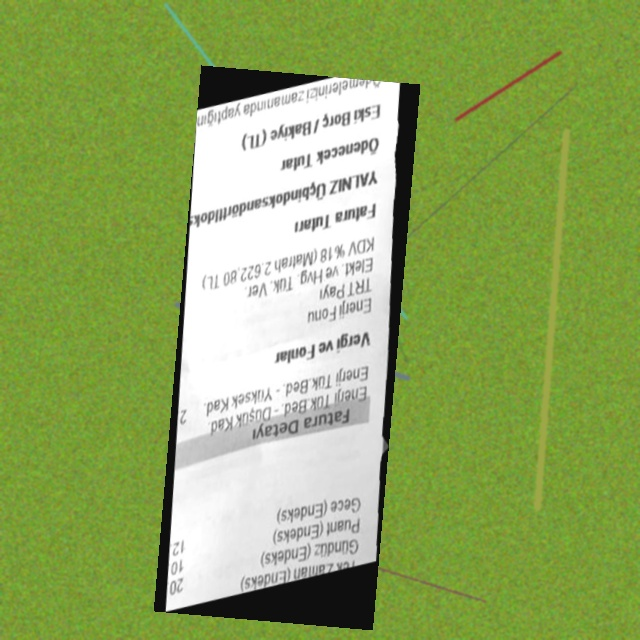electricity-bill: (153, 65, 419, 630)
